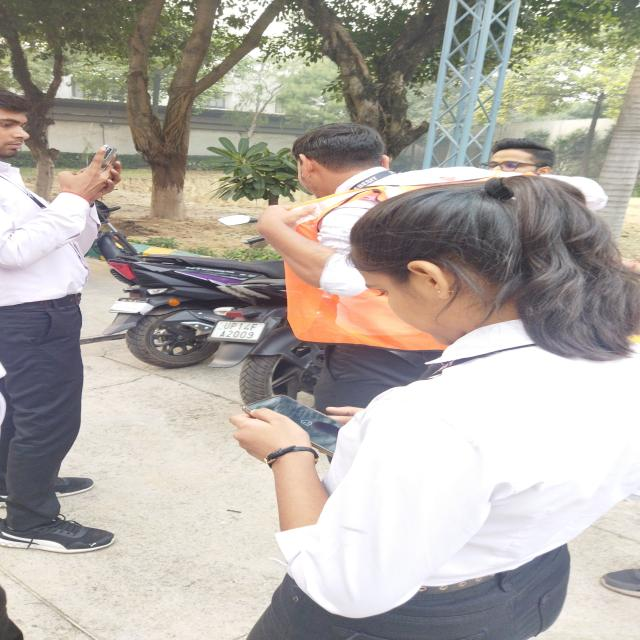unsafe: (238, 178, 636, 640)
